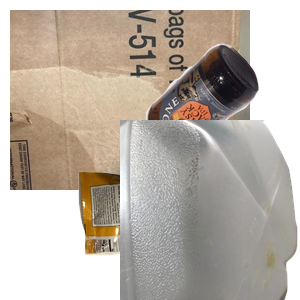cardboard: (10, 10, 250, 190)
glass: (120, 41, 300, 196)
plastic: (120, 120, 300, 300)
trash: (76, 159, 259, 300)
